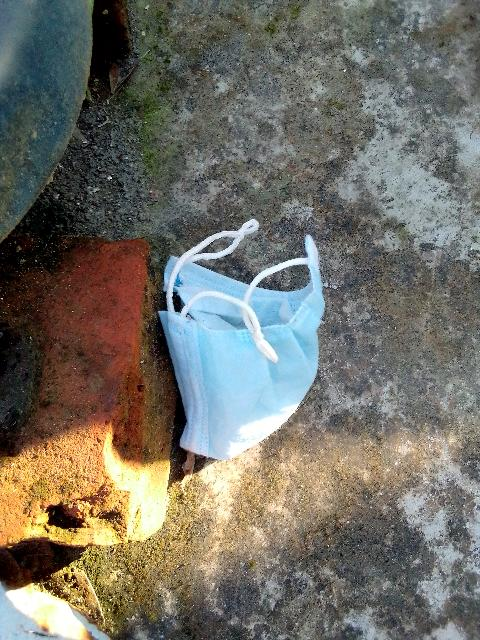mask: (159, 204, 329, 480)
